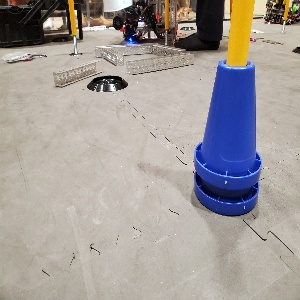Blue_2: (194, 58, 262, 215)
